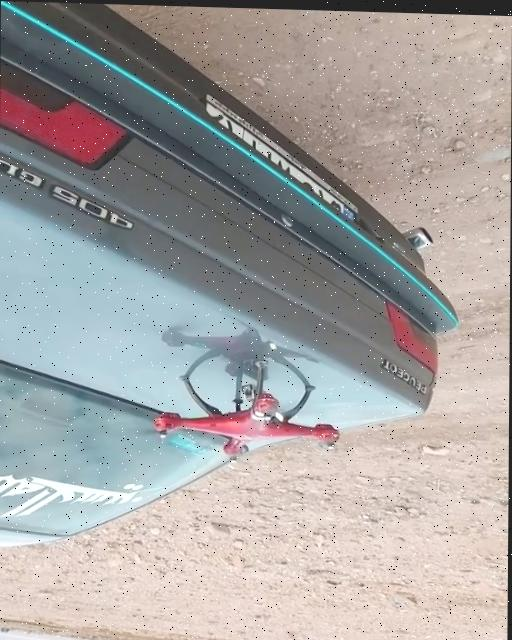drone: (129, 354, 344, 466)
